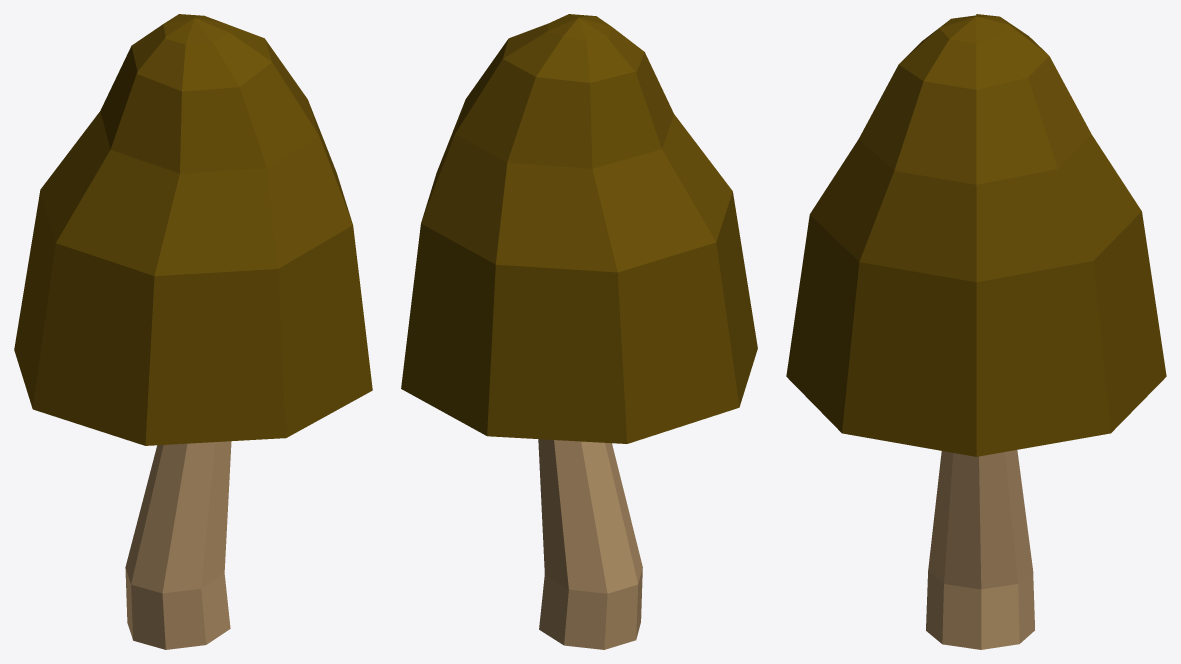
File: mushroom2.fbx
3 renders of one model, left to right at view 1: azimuth 30°, elevation 25°; view 2: azimuth 150°, elevation 25°; view 3: azimuth 270°, elevation 25°, orthographic. The views are drawn at different scales.
Parts seen in each view (by area): view 1: Mushroom_2; view 2: Mushroom_2; view 3: Mushroom_2.
Part boxes in pixels (x1,y1,x2,y2): Mushroom_2: (14, 14, 372, 649); Mushroom_2: (401, 14, 757, 649); Mushroom_2: (786, 14, 1166, 649).
Size of the model in its own units: 32.06 by 58.07 by 32.06.
